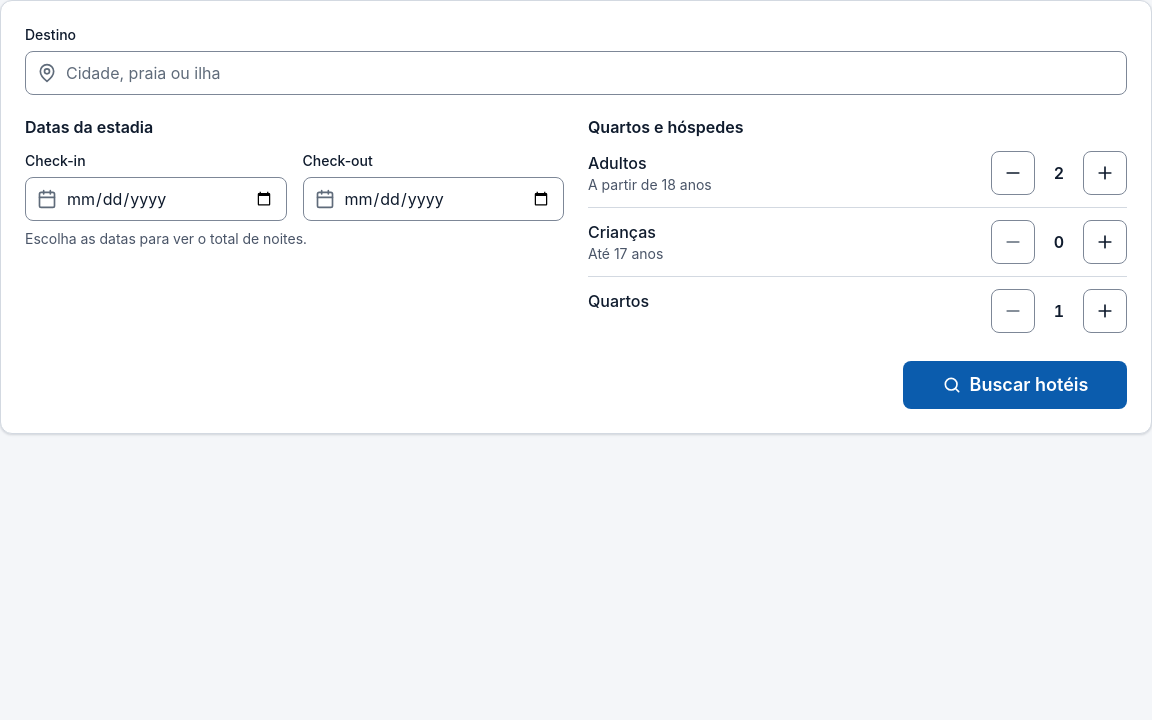
it: SearchForm: envio válido › Enter no destino sem opção ativa envia o formulário
Click the dropdown labelled "Destino" at {"x": 576, "y": 73}, box [25,51,1127,95]
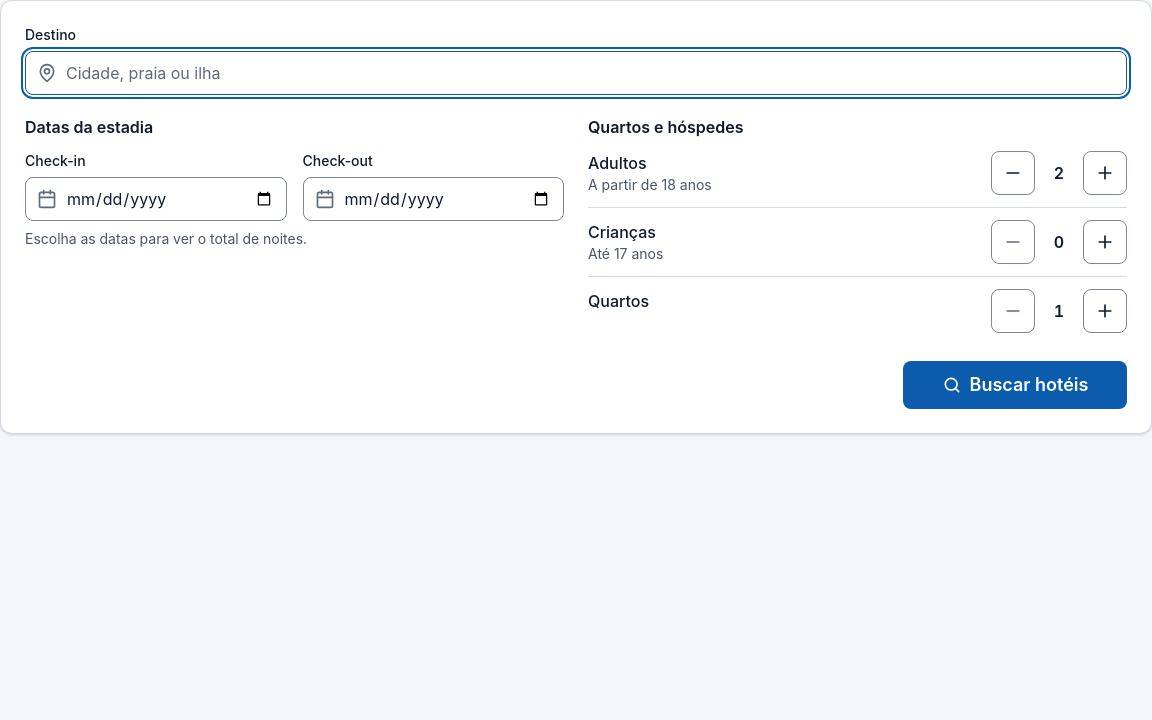
Press Enter
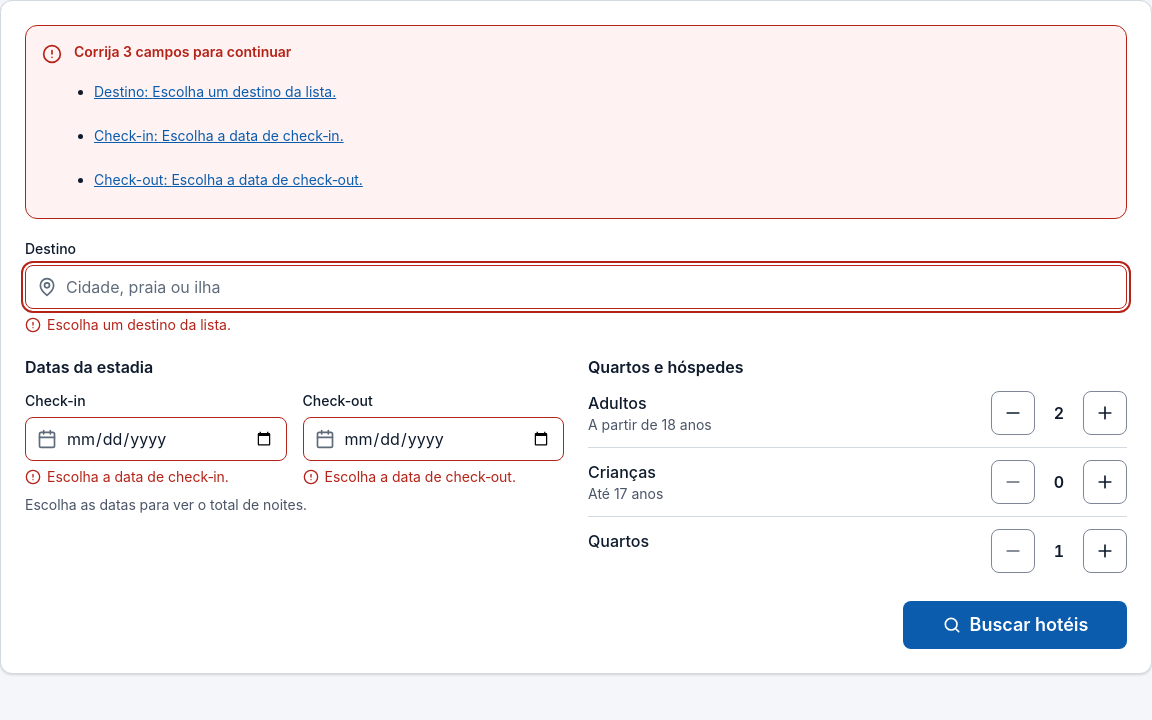
expect the message is shown: met, box [25,25,1127,219]
